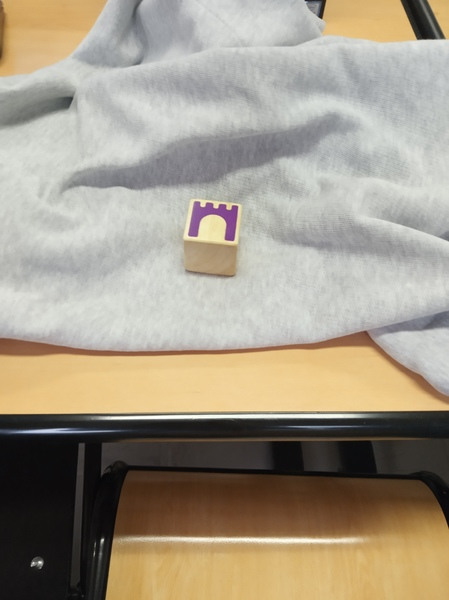violet: (186, 194, 243, 271)
